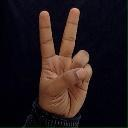hand: (37, 7, 92, 118)
